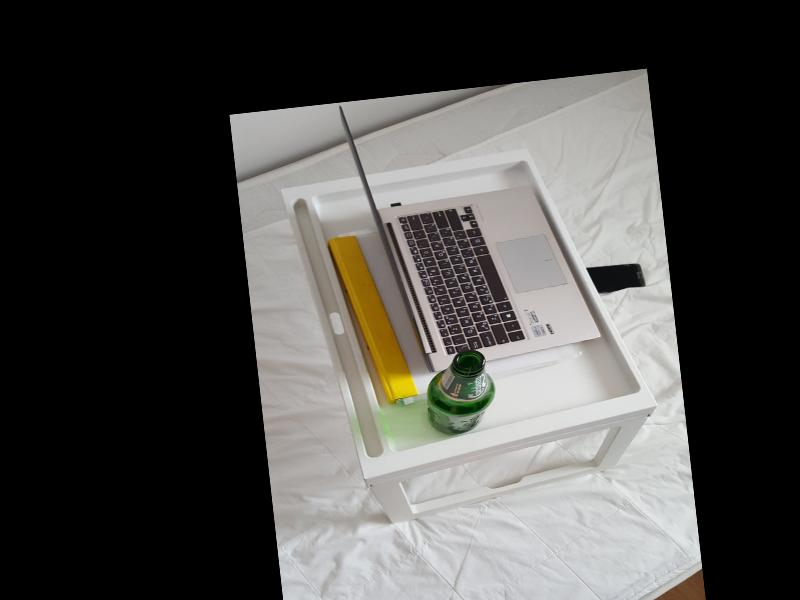Beer: (421, 348, 500, 438)
